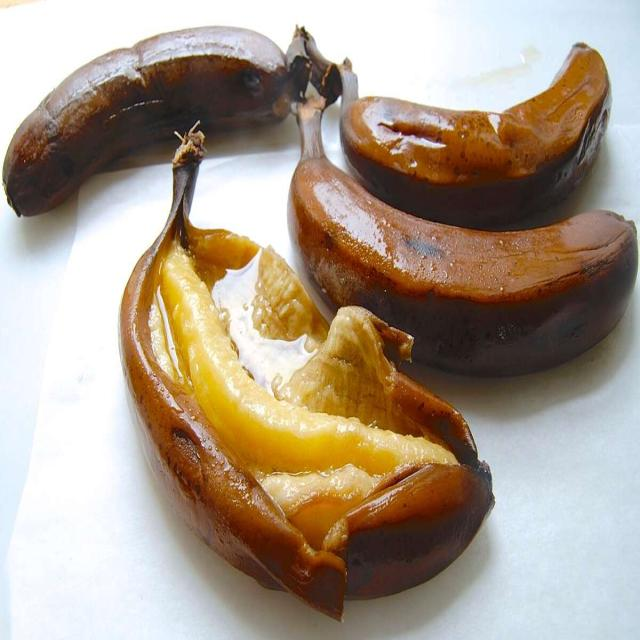banana_peel: (107, 123, 517, 611), (288, 85, 639, 401), (1, 25, 321, 236), (330, 36, 617, 225)
